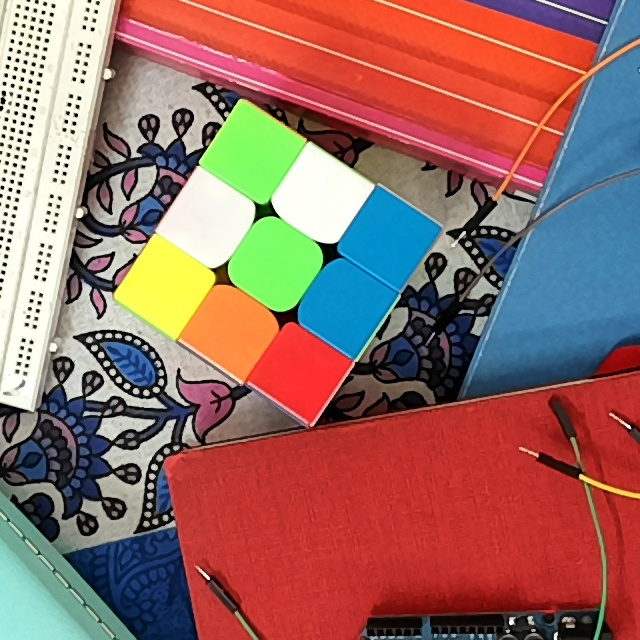tile: (224, 128, 280, 182), (320, 278, 375, 330), (363, 212, 418, 263), (294, 170, 346, 223), (251, 239, 305, 290), (181, 197, 236, 245), (140, 261, 191, 311), (204, 305, 254, 356), (276, 348, 326, 396)
